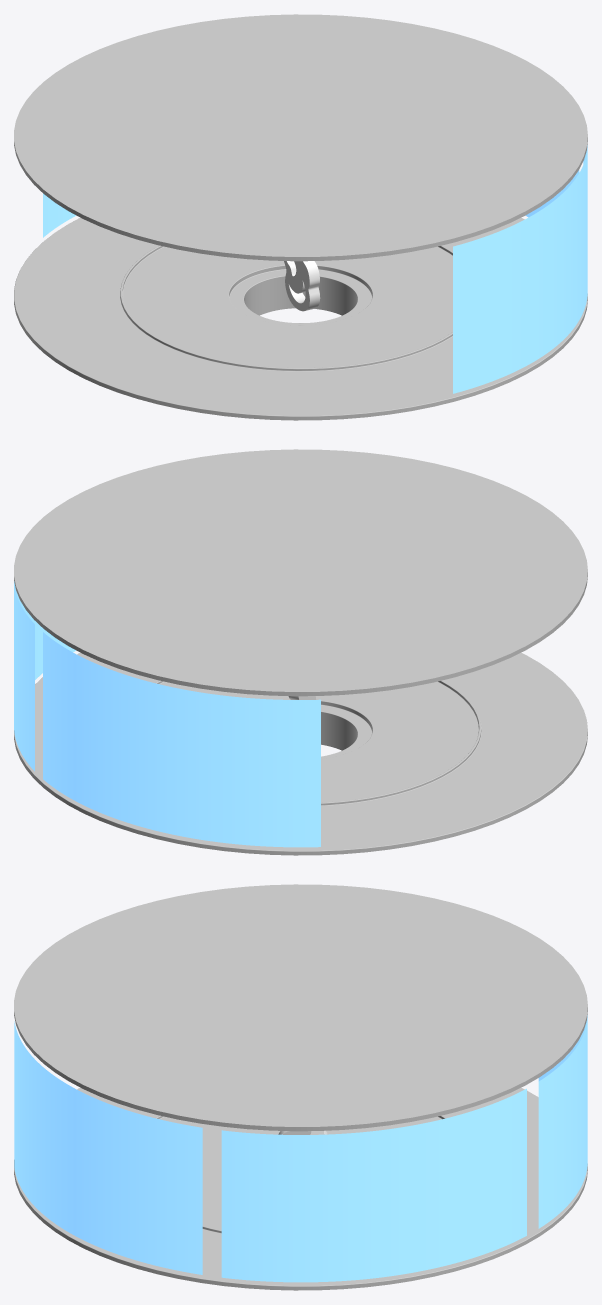
3 views of the same model, one above another, from view 1: azimuth 30°, elevation 25°; view 2: azimuth 150°, elevation 25°; view 3: azimuth 270°, elevation 25° (orthographic).
Visible parts, largest first — view 1: Circle.001, Circle, Screen_03, Curve, Screen_00; view 2: Circle.001, Circle, Screen_00, Screen_04; view 3: Circle.001, Screen_04, Screen_03, Circle, Screen_00.
Boxes of the visible parts, left/top/right/bottom form: Circle.001: left=14, top=14, right=587, bottom=261; Circle: left=14, top=217, right=587, bottom=420; Screen_03: left=453, top=145, right=587, bottom=393; Curve: left=284, top=261, right=320, bottom=311; Screen_00: left=43, top=193, right=75, bottom=237; Circle.001: left=14, top=449, right=587, bottom=696; Circle: left=14, top=652, right=587, bottom=855; Screen_00: left=43, top=632, right=320, bottom=847; Screen_04: left=14, top=581, right=75, bottom=771; Circle.001: left=14, top=884, right=587, bottom=1131; Screen_04: left=221, top=1088, right=526, bottom=1282; Screen_03: left=14, top=1021, right=202, bottom=1274; Circle: left=14, top=1087, right=587, bottom=1290; Screen_00: left=538, top=1015, right=587, bottom=1228.
Size of the model in its own units: 12.01 by 4.53 by 12.01.
